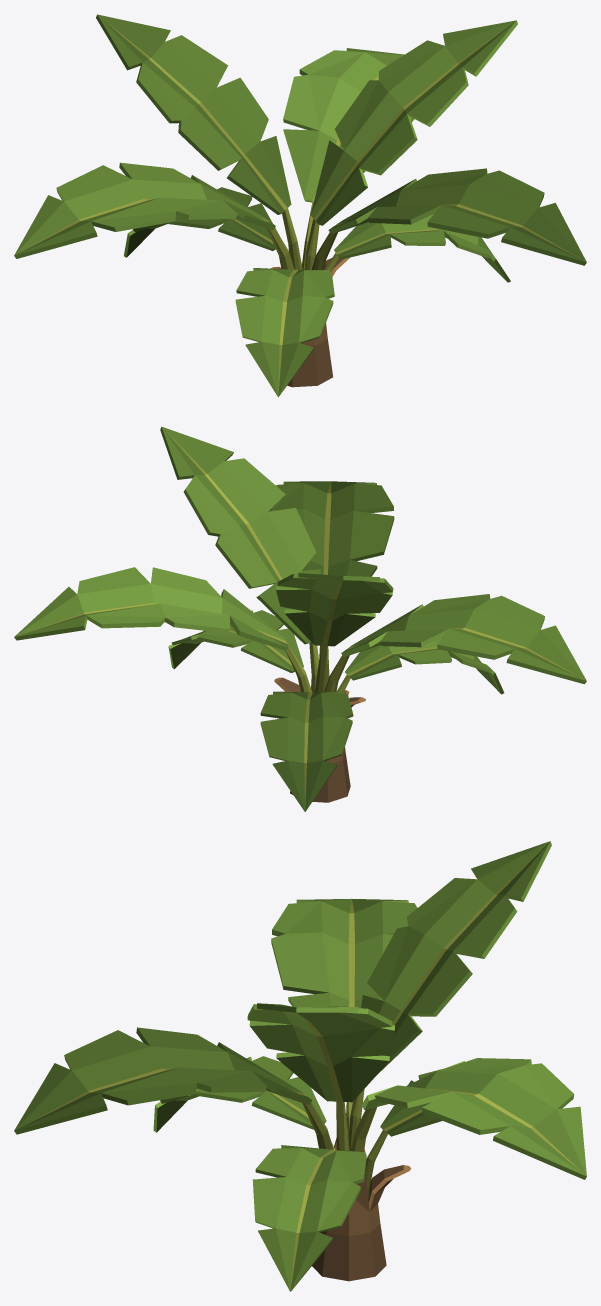
Rendered from CS_Plant_37_L3.fbx.
The picture shows the model from 3 angles, top to bottom: view 1: azimuth 30°, elevation 25°; view 2: azimuth 150°, elevation 25°; view 3: azimuth 270°, elevation 25°; orthographic projection. The views are drawn at different scales.
Parts seen in each view (by area): view 1: Plant_37_L3_h, Plant_37_L3_g, Plant_37_L3_a, Plant_37_L3_b, Plant_37_L3_e, Plant_37_L3_c, Plant_37_L3_f, Plant_37_L3_d, CS_Plant_37_L3; view 2: Plant_37_L3_g, Plant_37_L3_c, Plant_37_L3_a, Plant_37_L3_b, Plant_37_L3_d, Plant_37_L3_h, Plant_37_L3_e, Plant_37_L3_f, CS_Plant_37_L3; view 3: Plant_37_L3_h, Plant_37_L3_b, Plant_37_L3_c, Plant_37_L3_a, Plant_37_L3_f, Plant_37_L3_g, CS_Plant_37_L3, Plant_37_L3_e, Plant_37_L3_d.
Boxes of the visible parts, x1=… form: Plant_37_L3_h: x1=96, y1=14, x2=302, y2=269; Plant_37_L3_g: x1=304, y1=20, x2=517, y2=269; Plant_37_L3_a: x1=14, y1=162, x2=294, y2=269; Plant_37_L3_b: x1=311, y1=168, x2=586, y2=269; Plant_37_L3_e: x1=235, y1=268, x2=334, y2=397; Plant_37_L3_c: x1=283, y1=48, x2=414, y2=269; Plant_37_L3_f: x1=324, y1=214, x2=510, y2=282; Plant_37_L3_d: x1=124, y1=187, x2=278, y2=257; CS_Plant_37_L3: x1=270, y1=257, x2=349, y2=387; Plant_37_L3_g: x1=160, y1=426, x2=320, y2=692; Plant_37_L3_c: x1=14, y1=567, x2=311, y2=692; Plant_37_L3_a: x1=324, y1=594, x2=586, y2=691; Plant_37_L3_b: x1=268, y1=481, x2=394, y2=687; Plant_37_L3_d: x1=260, y1=691, x2=353, y2=811; Plant_37_L3_h: x1=276, y1=573, x2=393, y2=692; Plant_37_L3_e: x1=336, y1=637, x2=504, y2=694; Plant_37_L3_f: x1=168, y1=610, x2=303, y2=677; CS_Plant_37_L3: x1=274, y1=677, x2=365, y2=802; Plant_37_L3_h: x1=348, y1=841, x2=551, y2=1150; Plant_37_L3_b: x1=14, y1=1027, x2=333, y2=1149; Plant_37_L3_c: x1=350, y1=1058, x2=586, y2=1179; Plant_37_L3_a: x1=271, y1=898, x2=417, y2=1136; Plant_37_L3_f: x1=252, y1=1145, x2=366, y2=1291; Plant_37_L3_g: x1=247, y1=1003, x2=394, y2=1150; CS_Plant_37_L3: x1=312, y1=1138, x2=411, y2=1281; Plant_37_L3_e: x1=153, y1=1056, x2=334, y2=1149; Plant_37_L3_d: x1=365, y1=1069, x2=442, y2=1198.
Size of the model in its own units: 1.06 by 0.6464 by 0.9229.
